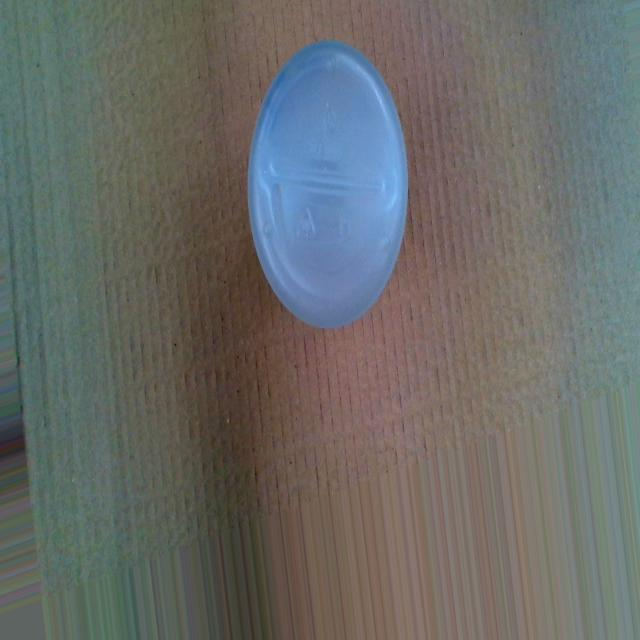bottle: (246, 40, 410, 327)
